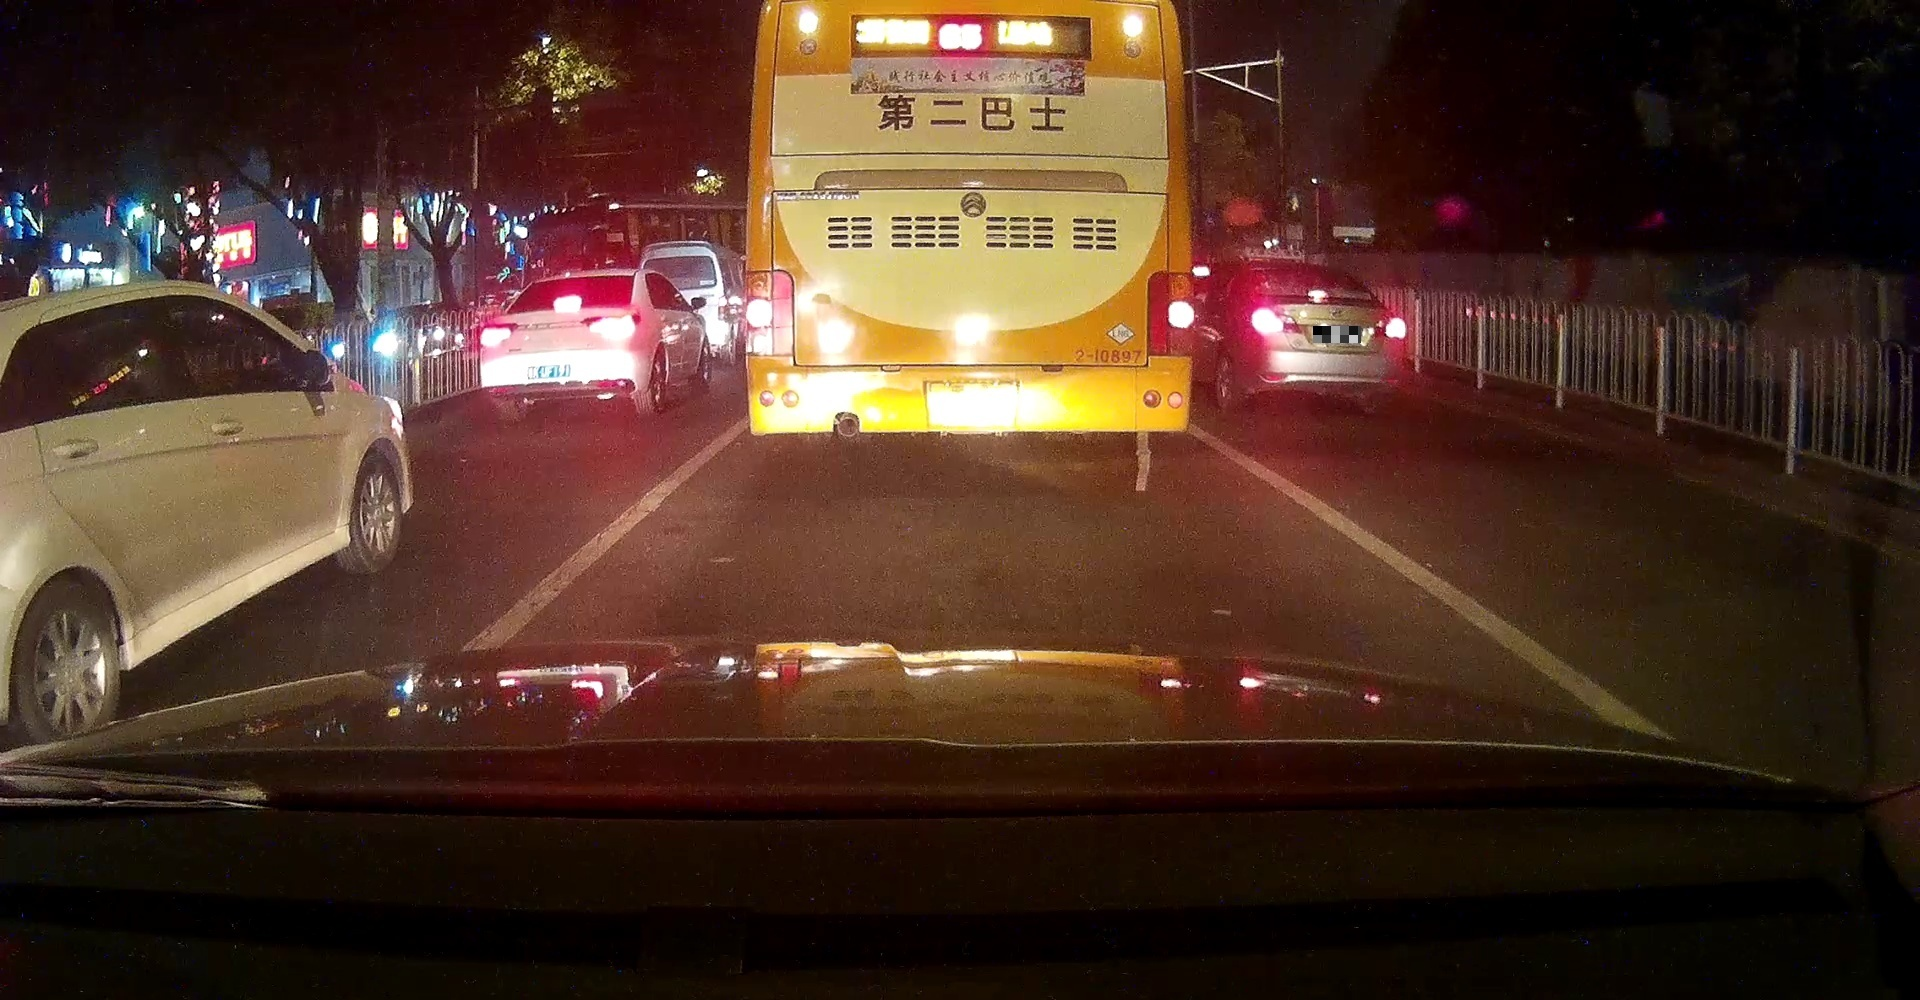L_light: (745, 270, 794, 359), (1244, 308, 1302, 335), (481, 322, 518, 350)
R_light: (1147, 272, 1197, 354), (582, 313, 641, 343), (1377, 316, 1408, 341)
T_light: (938, 1, 996, 15), (552, 294, 582, 313), (1305, 289, 1330, 305)
night-brake: (1217, 256, 1408, 426), (481, 269, 643, 437)
night-no: (745, 0, 1197, 449)
plate_1: (1313, 326, 1361, 343)
